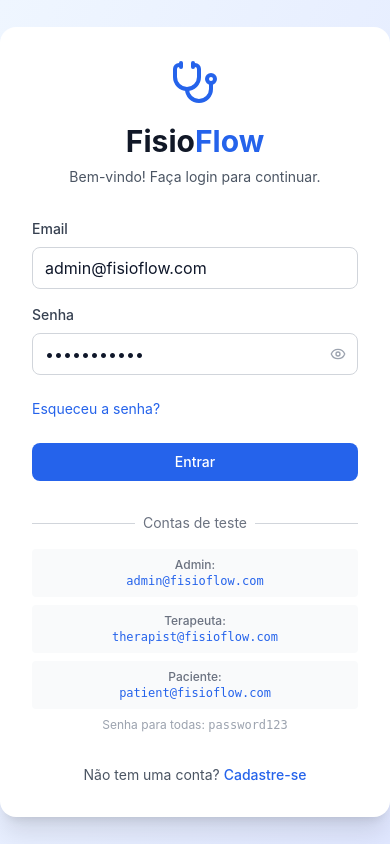
it: LoginPage › should show forgot password form
The width and height of the screenshot is (390, 844).
Click the button "Esqueceu a senha?": x=96, y=409 [32, 399, 160, 419]
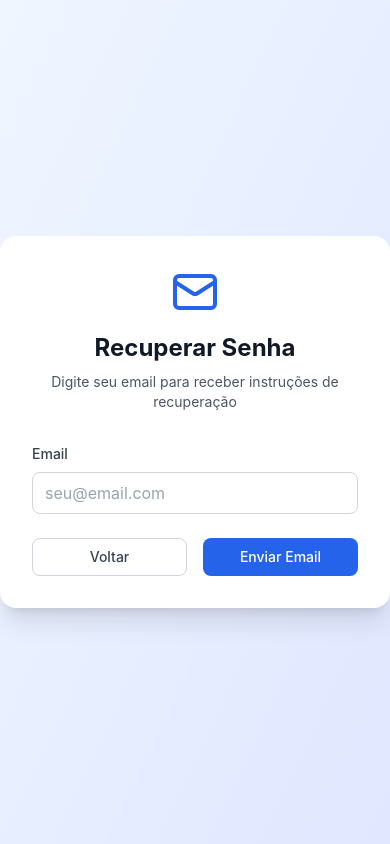
Expected: the heading "Recuperar Senha" is shown, [94, 333, 295, 362]
Expected: the field with placeholder "seu@email.com" is shown, [32, 472, 358, 514]
Expected: the button "Enviar Email" is shown, [203, 538, 358, 576]
